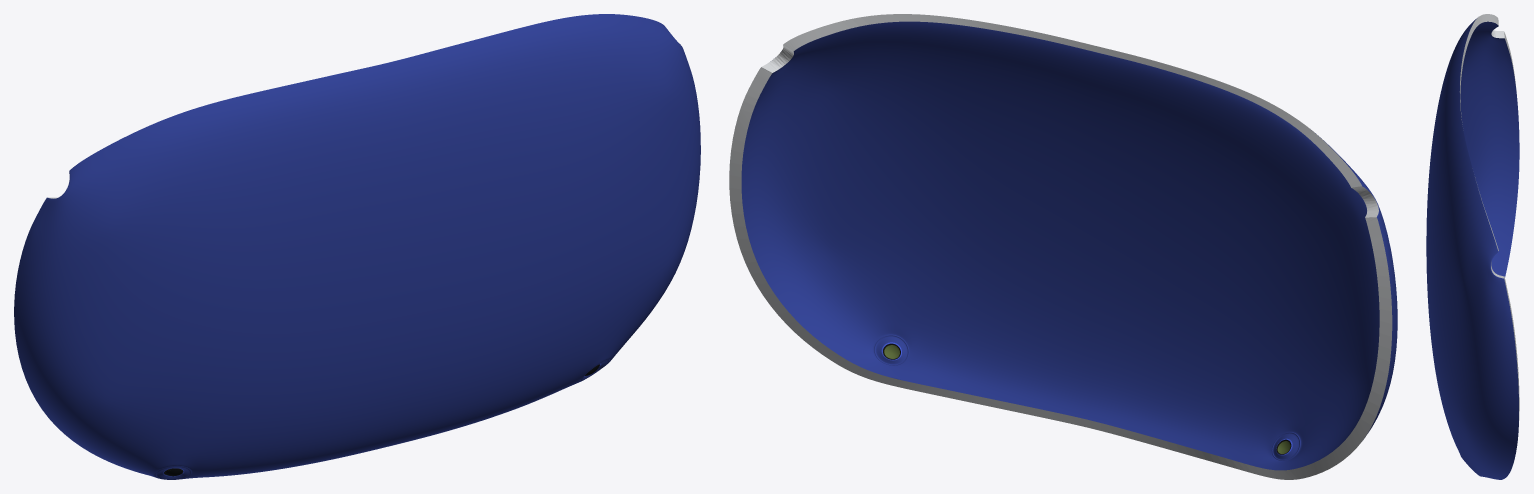
The model's file is Abdeckung2.fbx.
3 views of the same model, side by side, from view 1: azimuth 30°, elevation 25°; view 2: azimuth 150°, elevation 25°; view 3: azimuth 270°, elevation 25° (orthographic). The views are drawn at different scales.
Visible parts, largest first — view 1: Abdeckung2; view 2: Abdeckung2; view 3: Abdeckung2.
Part boxes in pixels (x1,y1,x2,y2): Abdeckung2: [14, 14, 700, 479]; Abdeckung2: [729, 14, 1397, 479]; Abdeckung2: [1426, 14, 1519, 479].
Size of the model in its own units: 124 by 67.89 by 18.34.
